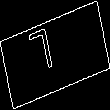L_S: (40, 26, 70, 84)
